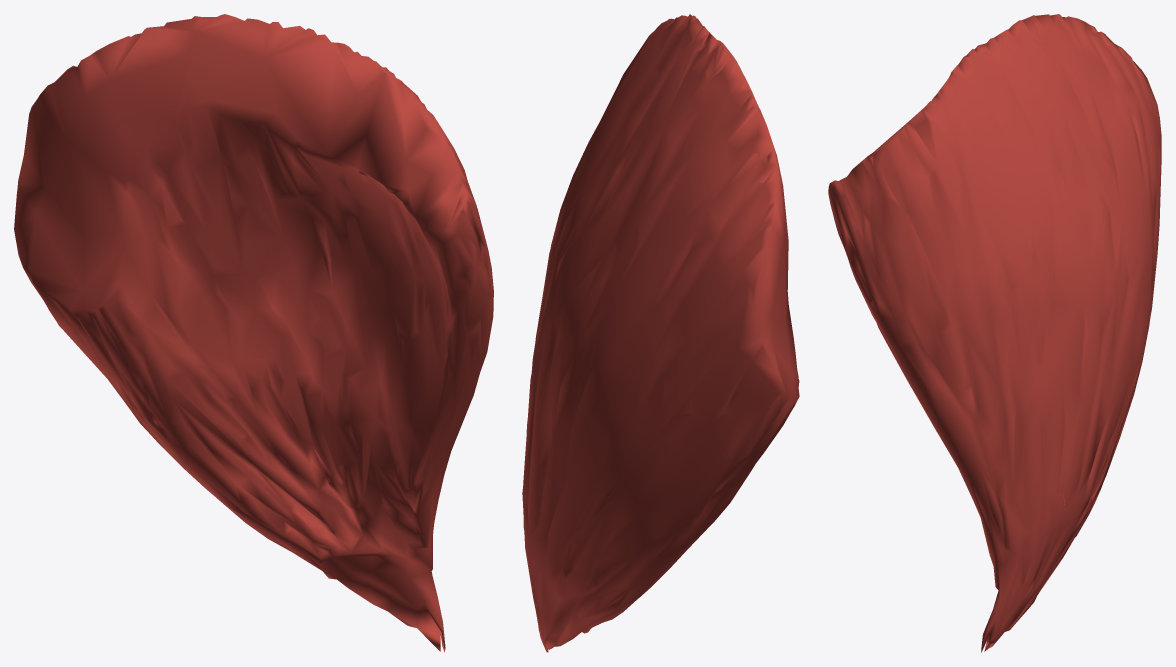
File: musculos-gluteus-medius-muscle-l.glb
3 views of the same model, side by side, from view 1: azimuth 30°, elevation 25°; view 2: azimuth 150°, elevation 25°; view 3: azimuth 270°, elevation 25° (orthographic). The views are drawn at different scales.
Parts seen in each view (by area): view 1: Gluteus medius muscle.l; view 2: Gluteus medius muscle.l; view 3: Gluteus medius muscle.l.
Part boxes in pixels (bbox=[...]): Gluteus medius muscle.l: bbox=[14, 14, 493, 652]; Gluteus medius muscle.l: bbox=[522, 14, 799, 652]; Gluteus medius muscle.l: bbox=[828, 14, 1161, 652].
Bounding box in the file's own units: 0.0891 × 0.1674 × 0.0915.
